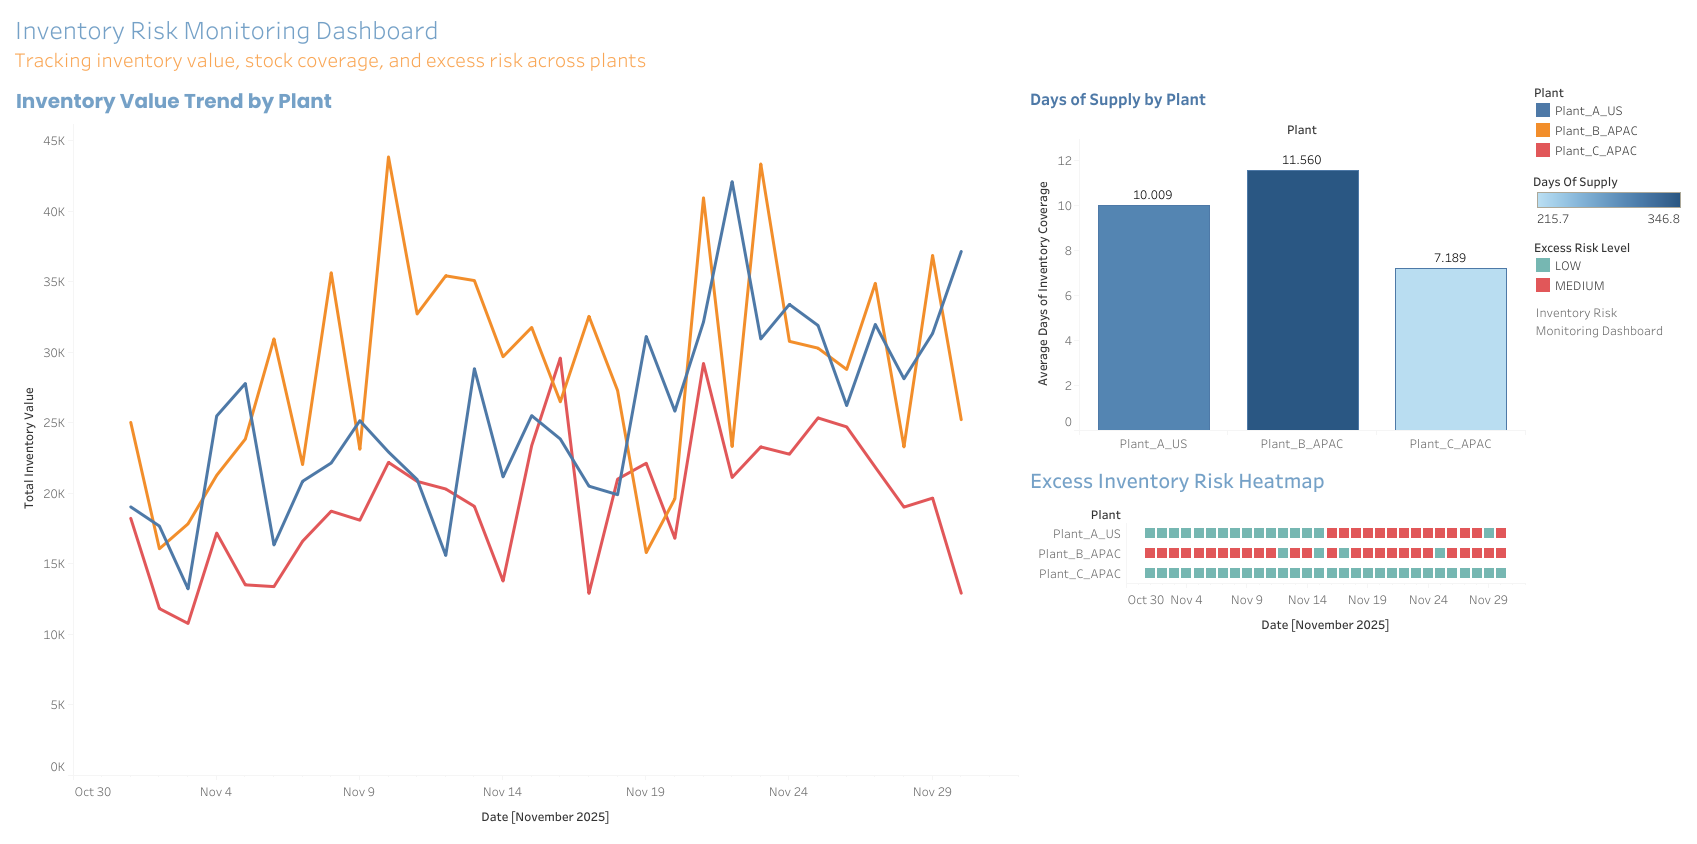

What the dashboard file says about the page in this screenshot:
{"tool":"tableau","page":{"name":"Dashboard 1","canvas":[1000,1000],"units":"permille","ordinal":0},"visuals":[{"type":"title","box":[4.7,9.5,990.6,81.8]},{"type":"worksheet","title":"Inventory Value Trend","mark":"Line","rows":["TOTAL_INVENTORY_VALUE"],"cols":["DATE"],"box":[4.7,91.2,597.4,899.3]},{"type":"worksheet","title":"Days Of Supply By Plant","mark":"Bar","rows":["DAYS_OF_SUPPLY"],"cols":["PLANT"],"box":[602.1,91.2,298.9,449.6]},{"type":"legend","title":"Inventory Value Trend","param":"[federated.1qjugrs0g4g4vy162of761wn1zzu].[none:PLANT:nk]","box":[901,91.2,94.3,103.1]},{"type":"legend","title":"Days Of Supply By Plant","param":"[federated.1qjugrs0g4g4vy162of761wn1zzu].[sum:DAYS_OF_SUPPLY:qk]","box":[901,194.3,94.3,80.6]},{"type":"legend","title":"Excess Inverntoiry Risk Heatmap","param":"[federated.1qjugrs0g4g4vy162of761wn1zzu].[none:Calculation_0001135918575752:nk]","box":[901,274.9,94.3,79.4]},{"type":"text","box":[901,354.3,94.3,52.1]},{"type":"text","box":[901,406.4,94.3,21.3]},{"type":"worksheet","title":"Excess Inverntoiry Risk Heatmap","mark":"Square","rows":["PLANT"],"cols":["DATE"],"box":[602.1,540.8,298.9,449.7]}]}

Visuals, with their boxes on the dashboard's canvas, which has no fixed pixel size, in thousandths of its width and height (x1, y1, x2, y2). These are canvas units, not pixel positions in the 1697x844 screenshot, which may show the page scaled, cropped or inside an application window:
title: {"left": 5, "top": 10, "right": 995, "bottom": 91}
"Inventory Value Trend" worksheet (Line marks): {"left": 5, "top": 91, "right": 602, "bottom": 990}
"Days Of Supply By Plant" worksheet (Bar marks): {"left": 602, "top": 91, "right": 901, "bottom": 541}
"Inventory Value Trend" legend: {"left": 901, "top": 91, "right": 995, "bottom": 194}
"Days Of Supply By Plant" legend: {"left": 901, "top": 194, "right": 995, "bottom": 275}
"Excess Inverntoiry Risk Heatmap" legend: {"left": 901, "top": 275, "right": 995, "bottom": 354}
text: {"left": 901, "top": 354, "right": 995, "bottom": 406}
text: {"left": 901, "top": 406, "right": 995, "bottom": 428}
"Excess Inverntoiry Risk Heatmap" worksheet (Square marks): {"left": 602, "top": 541, "right": 901, "bottom": 990}
